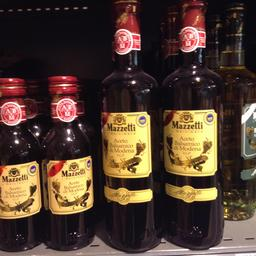vinegar: (94, 0, 164, 253), (160, 1, 226, 248), (38, 74, 100, 250), (0, 78, 43, 252)
